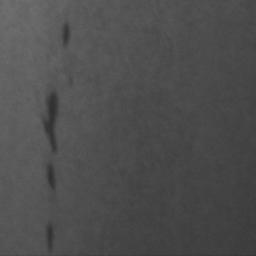Inclusion: (44, 92, 60, 155), (46, 164, 58, 188), (46, 223, 55, 250), (63, 23, 70, 46)
